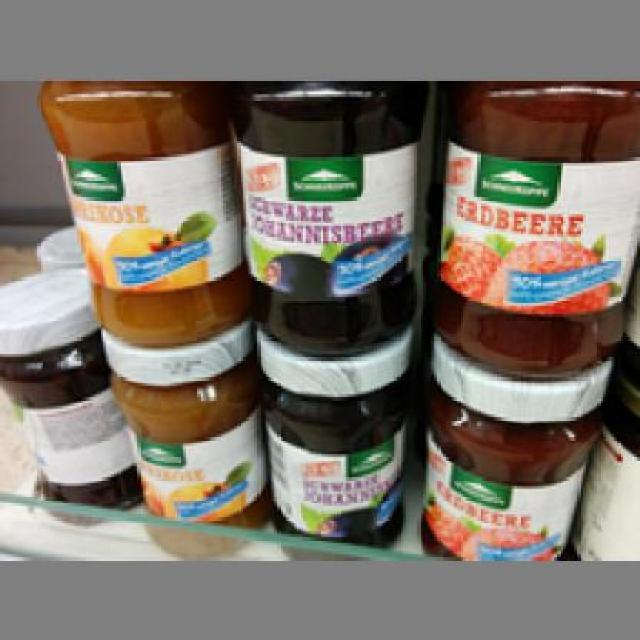Jam: (432, 76, 638, 372), (228, 77, 428, 357), (34, 80, 243, 346), (412, 337, 608, 557), (94, 328, 260, 554), (0, 266, 143, 523), (252, 328, 412, 554)
